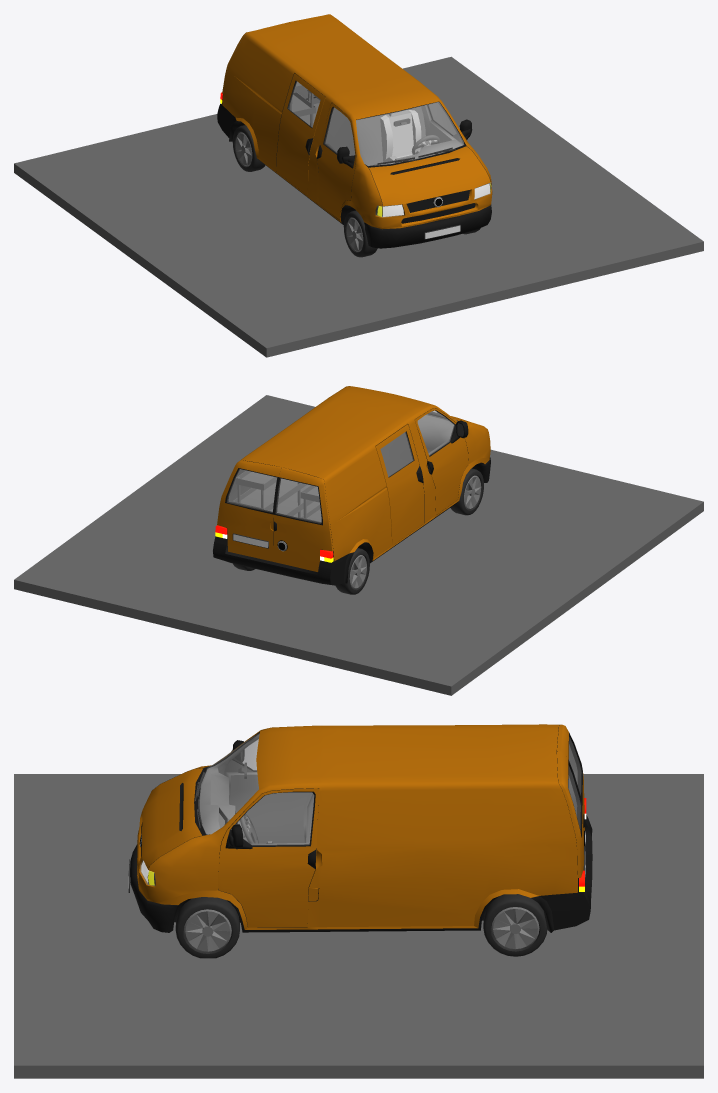
The model's file is transporter_van_-_free_download.glb.
3 renders of one model, top to bottom at view 1: azimuth 30°, elevation 25°; view 2: azimuth 150°, elevation 25°; view 3: azimuth 270°, elevation 25°, orthographic. The views are drawn at different scales.
Parts seen in each view (by area): view 1: Plane, Cube.038; view 2: Plane, Cube.038; view 3: Plane, Cube.038.
Boxes of the visible parts, bbox=[...] form: Plane: bbox=[14, 56, 703, 357]; Cube.038: bbox=[217, 14, 492, 257]; Plane: bbox=[14, 395, 703, 695]; Cube.038: bbox=[213, 386, 490, 594]; Plane: bbox=[14, 774, 703, 1078]; Cube.038: bbox=[128, 724, 592, 958].
Bounding box in the file's own units: 7.02 × 2.08 × 7.02.
